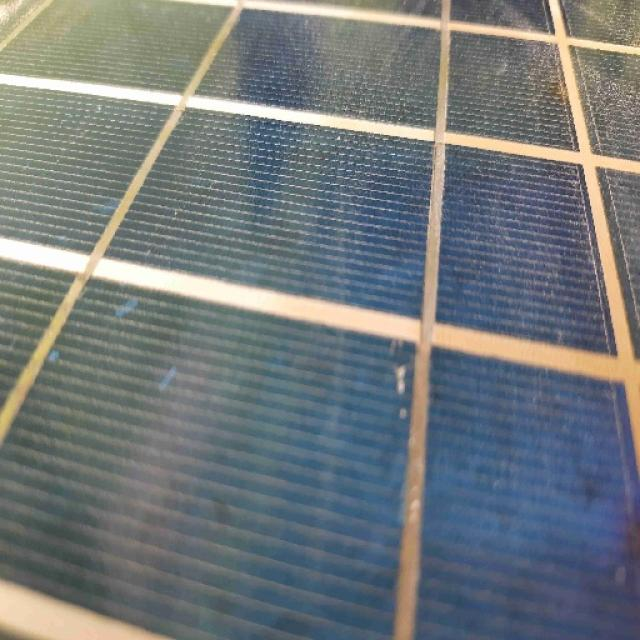Dirty: (7, 47, 640, 640)
